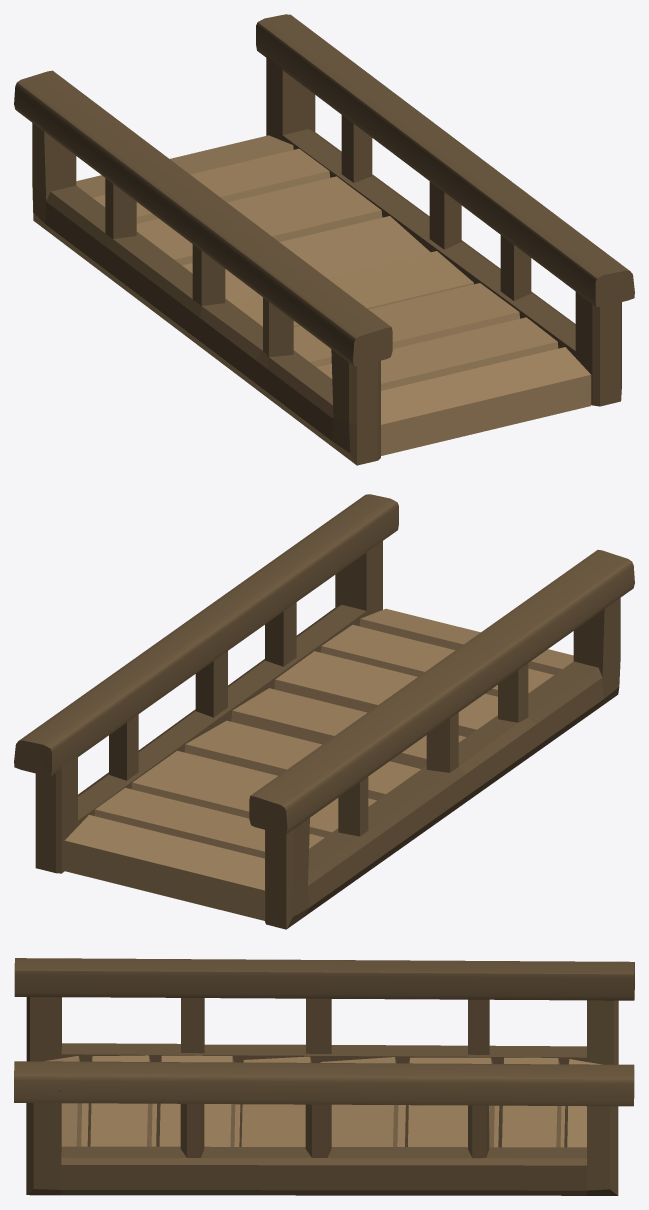
Rendered from Bridge.fbx.
The picture shows the model from 3 angles, top to bottom: view 1: azimuth 30°, elevation 25°; view 2: azimuth 150°, elevation 25°; view 3: azimuth 270°, elevation 25°; orthographic projection. The views are drawn at different scales.
Parts seen in each view (by area): view 1: Bridge2, pCube10 (×2), pCube11 (×2); view 2: Bridge2, pCube10 (×2), pCube11 (×2); view 3: pCube11 (×2), pCube10 (×2), Bridge2.
Part boxes in pixels (bbox=[...]): Bridge2: bbox=[76, 135, 591, 455]; pCube10 (×2): bbox=[32, 55, 621, 465]; pCube11 (×2): bbox=[14, 14, 634, 366]; Bridge2: bbox=[64, 608, 573, 920]; pCube10 (×2): bbox=[35, 541, 620, 929]; pCube11 (×2): bbox=[14, 494, 634, 834]; pCube11 (×2): bbox=[14, 958, 634, 1106]; pCube10 (×2): bbox=[26, 997, 618, 1195]; Bridge2: bbox=[45, 1055, 601, 1147].
Bounding box in the file's own units: 4.02 × 1.82 × 8.38.
